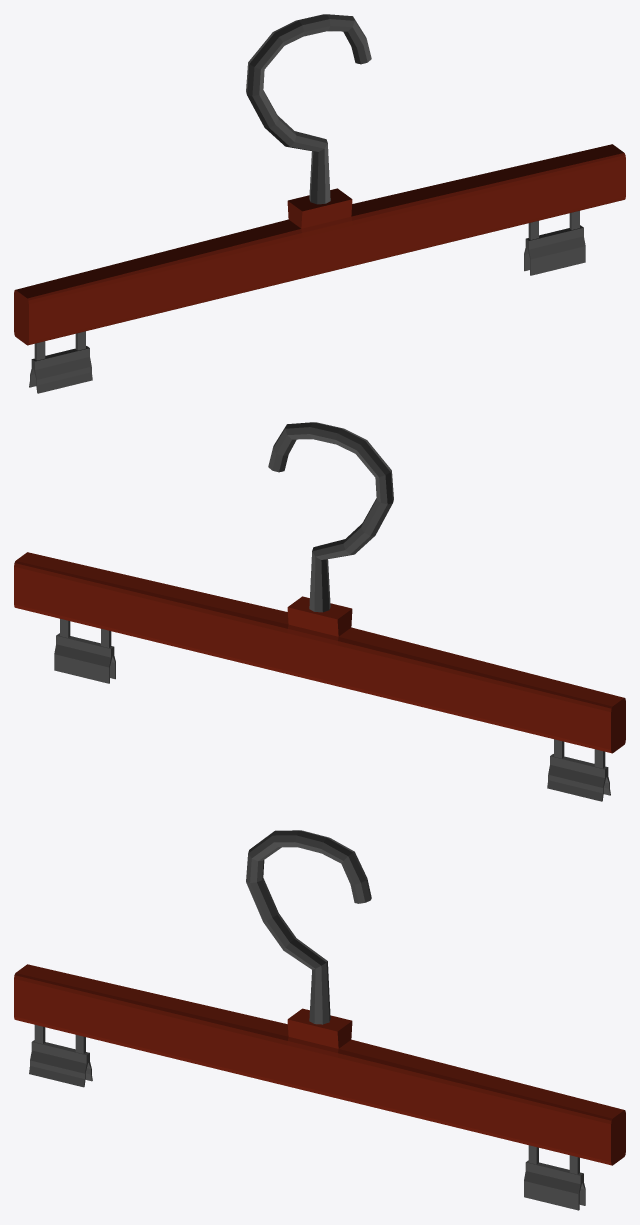
File: Clothes Hanger 7.fbx
The picture shows the model from 3 angles, top to bottom: view 1: azimuth 30°, elevation 25°; view 2: azimuth 150°, elevation 25°; view 3: azimuth 330°, elevation 25°; orthographic projection.
Visible parts, largest first — view 1: Node 0; view 2: Node 0; view 3: Node 0.
Boxes of the visible parts, x1,y1,x2,y2 form: Node 0: (14,14,625,393); Node 0: (14,422,625,801); Node 0: (14,830,625,1210).
Size of the model in its own units: 0.0315 by 0.3603 by 0.7299.
